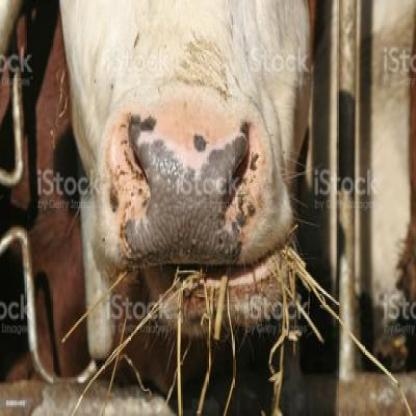lower: (206, 296, 241, 310)
mouth: (105, 111, 298, 329)
upper: (179, 176, 205, 209)
